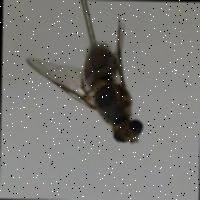Oriental-fruit-fly: (22, 12, 148, 150)
